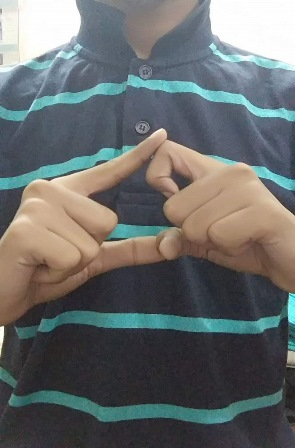kh: (48, 129, 255, 265)
